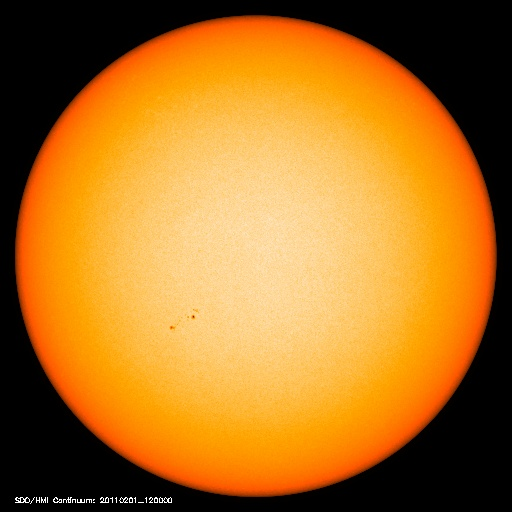sunspot: (161, 303, 208, 335)
